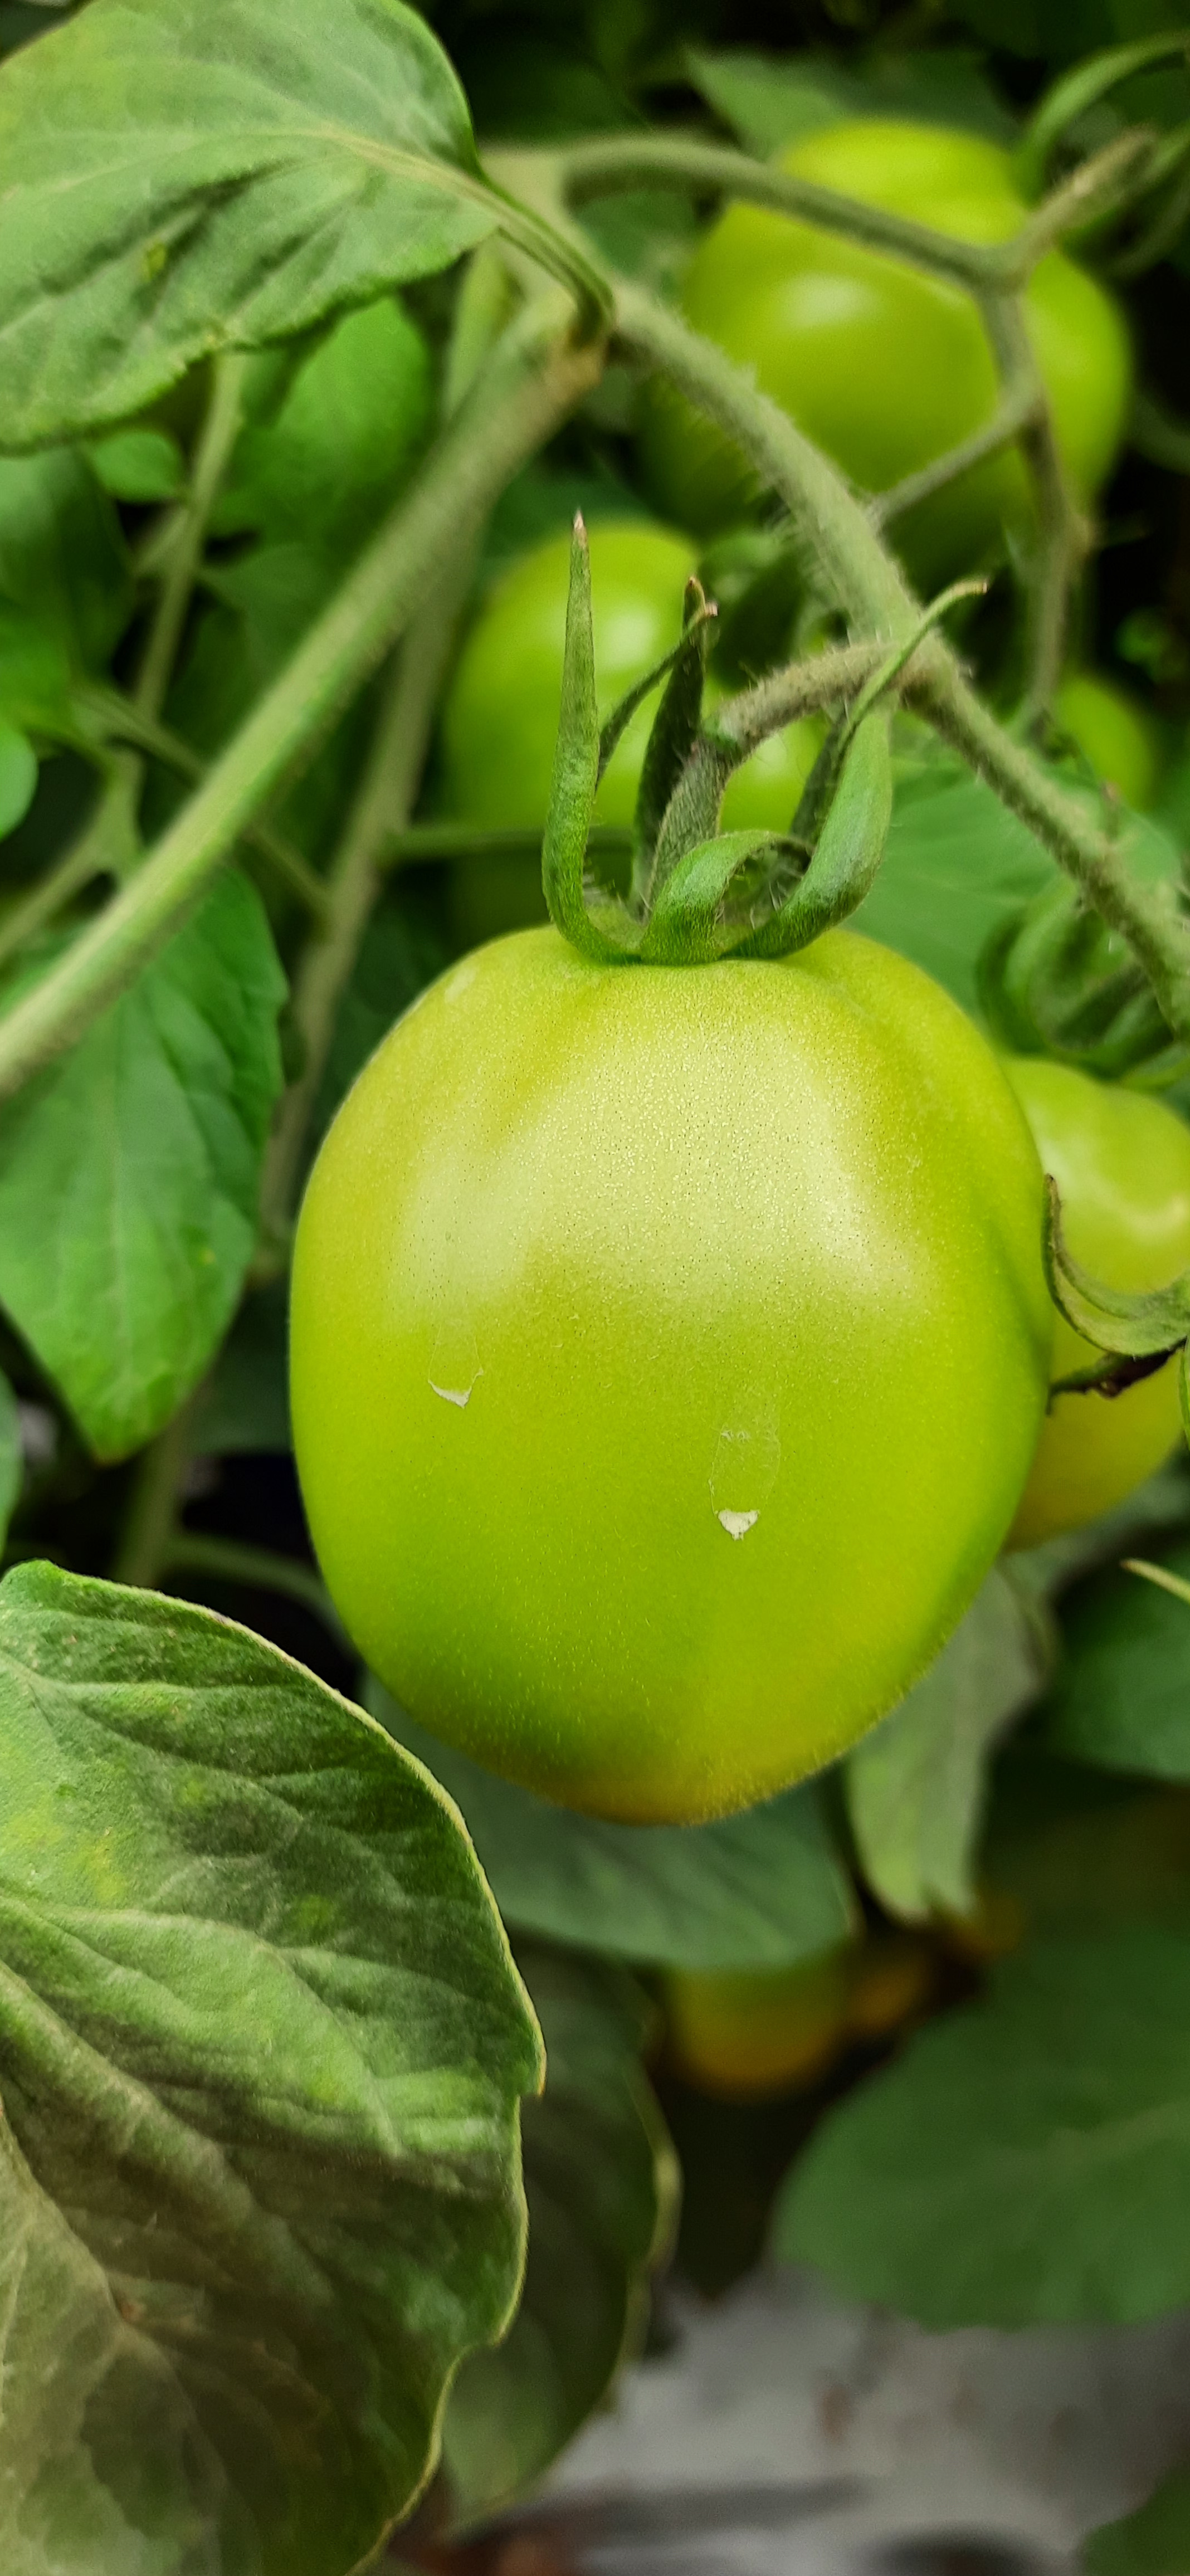raw_tomato: (250, 766, 1082, 1883)
